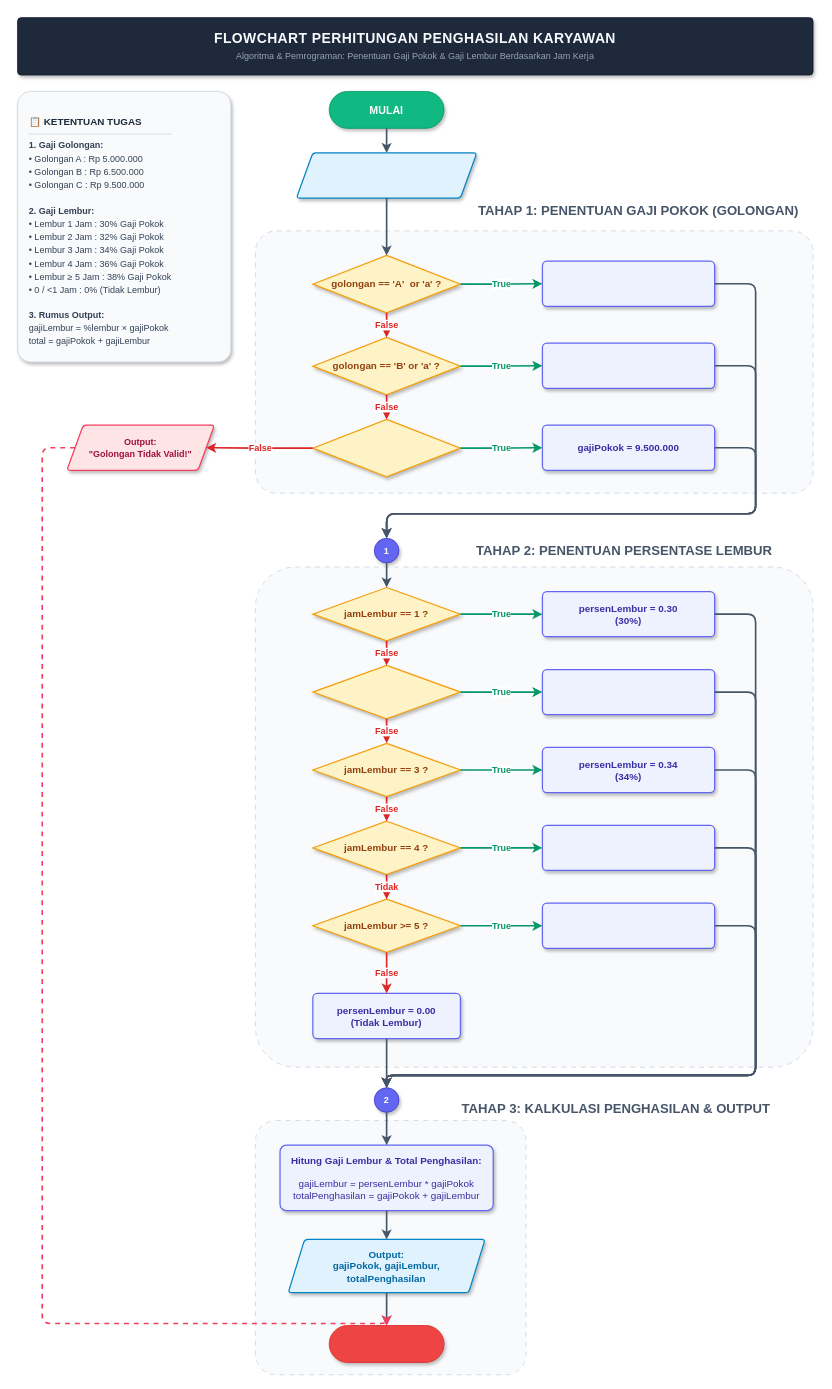
This 832x1389 diagram has some shape labels left out. The centre of each missing label's shape, as x and y in pixels:
"gajiPokok = 5.000.000" belongs at point 629,284.
"gajiPokok = 6.500.000" belongs at point 629,366.
"golongan == 'C' or 'c' ?" belongs at point 387,449.
"Input: golongan, jamLembur" belongs at point 387,176.
"jamLembur == 2 ?" belongs at point 387,693.
"persenLembur = 0.32 (32%)" belongs at point 629,693.
"persenLembur = 0.36 (36%)" belongs at point 629,848.
"persenLembur = 0.38 (38%)" belongs at point 629,926.
"SELESAI" belongs at point 387,1344.
